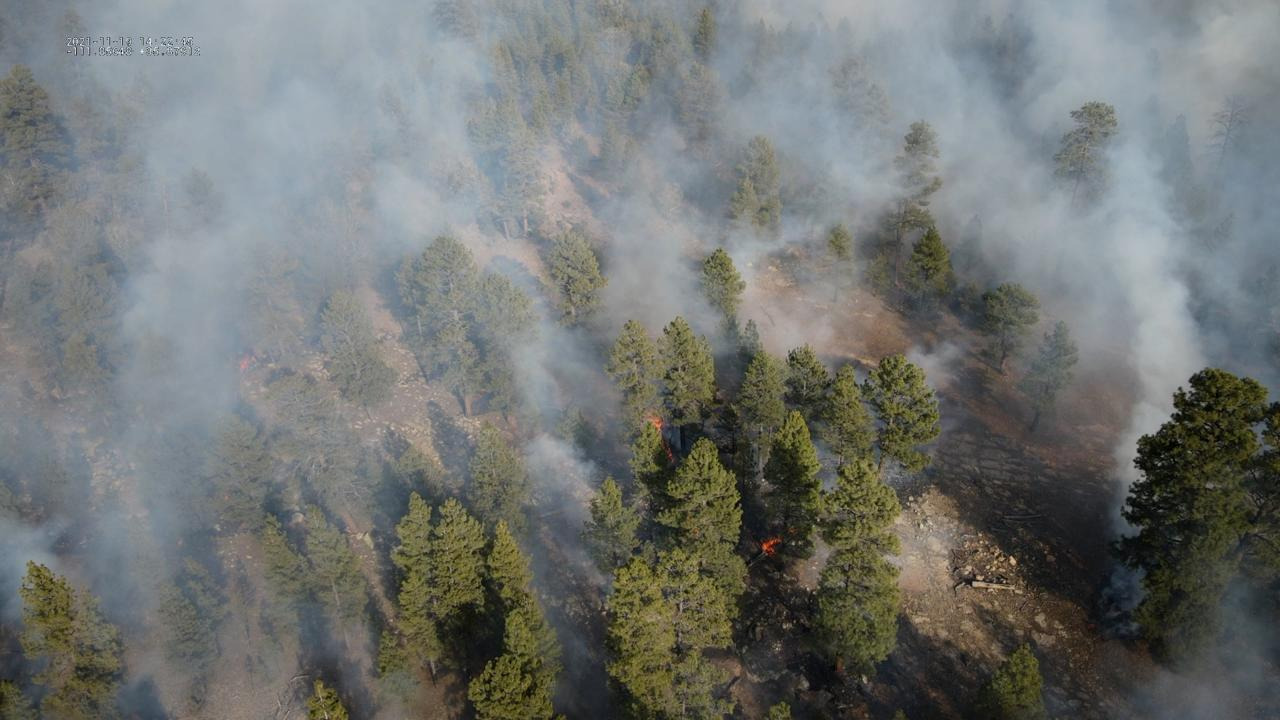fire: (641, 414, 673, 462), (762, 534, 783, 555), (238, 352, 252, 370)
smoke: (0, 0, 1280, 720)
